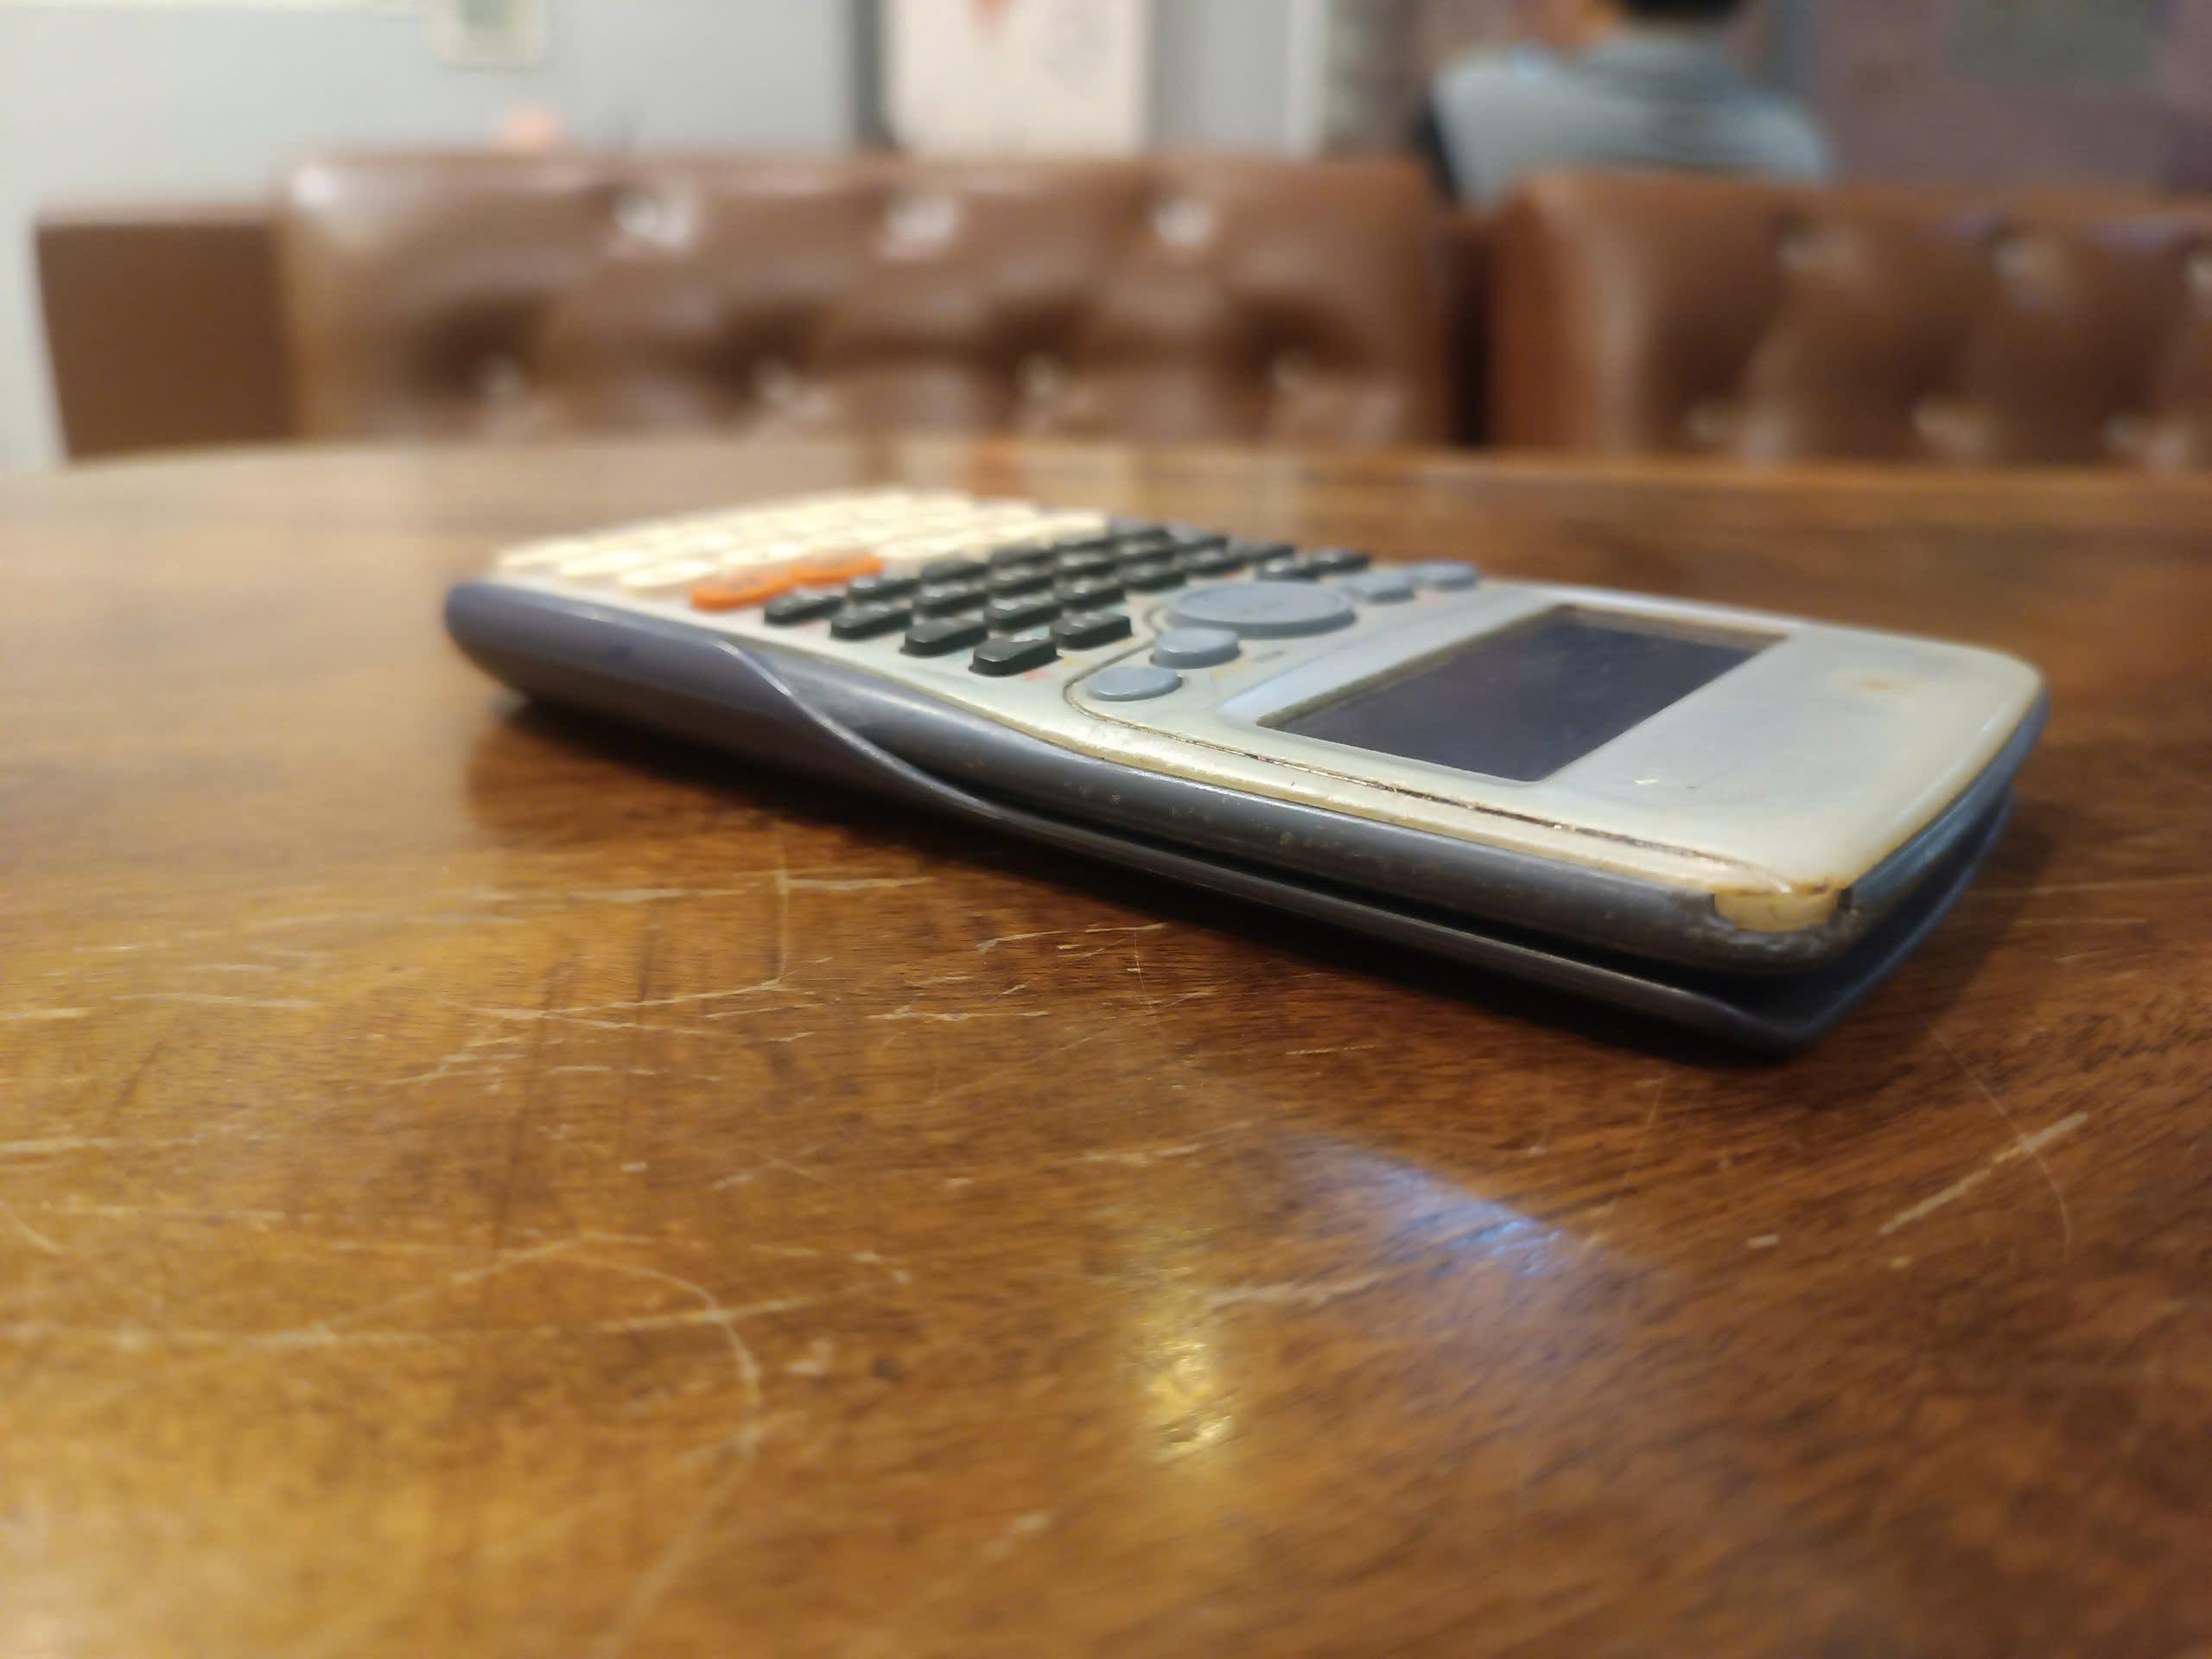Con lai: (446, 479, 2047, 1040)
